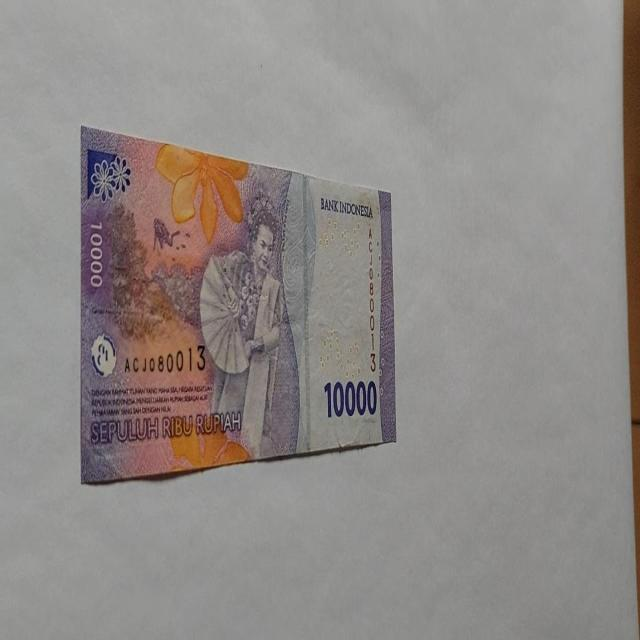Kertas: (79, 122, 397, 484)
